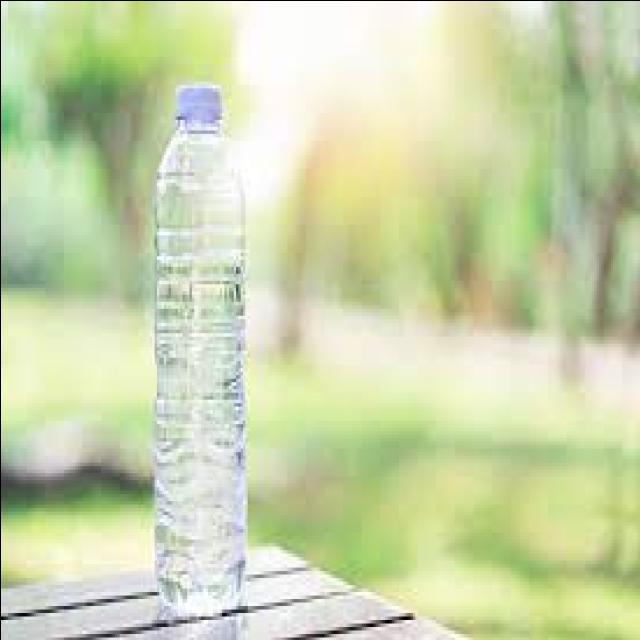plastic cup: (154, 85, 244, 617)
